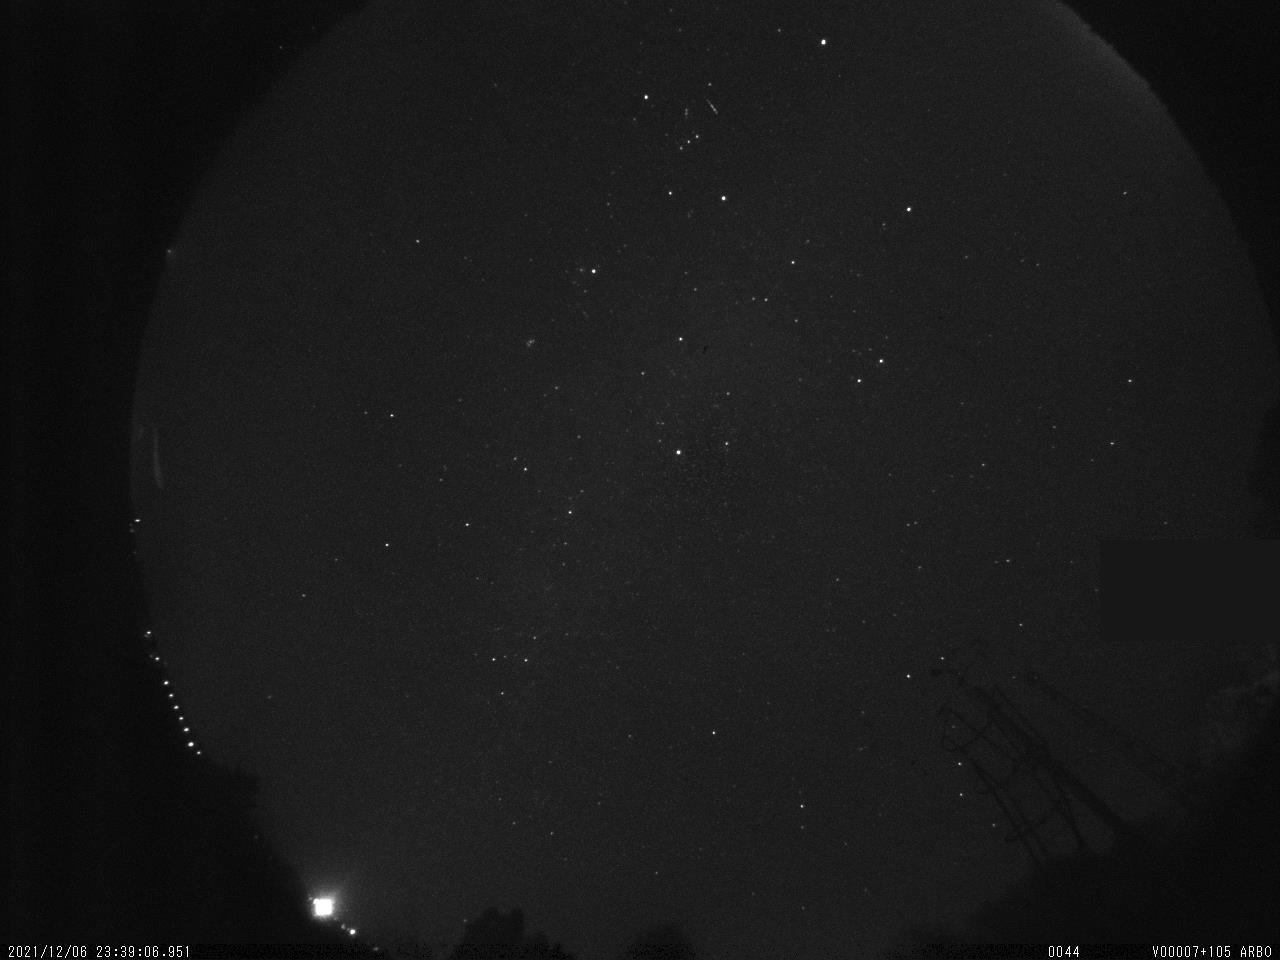meteor: (701, 94, 728, 120)
